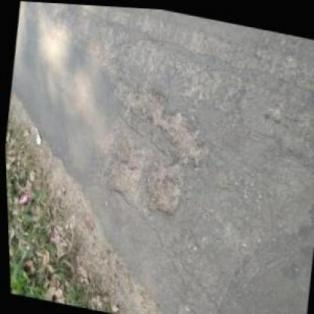Hueco: (92, 74, 220, 230)
